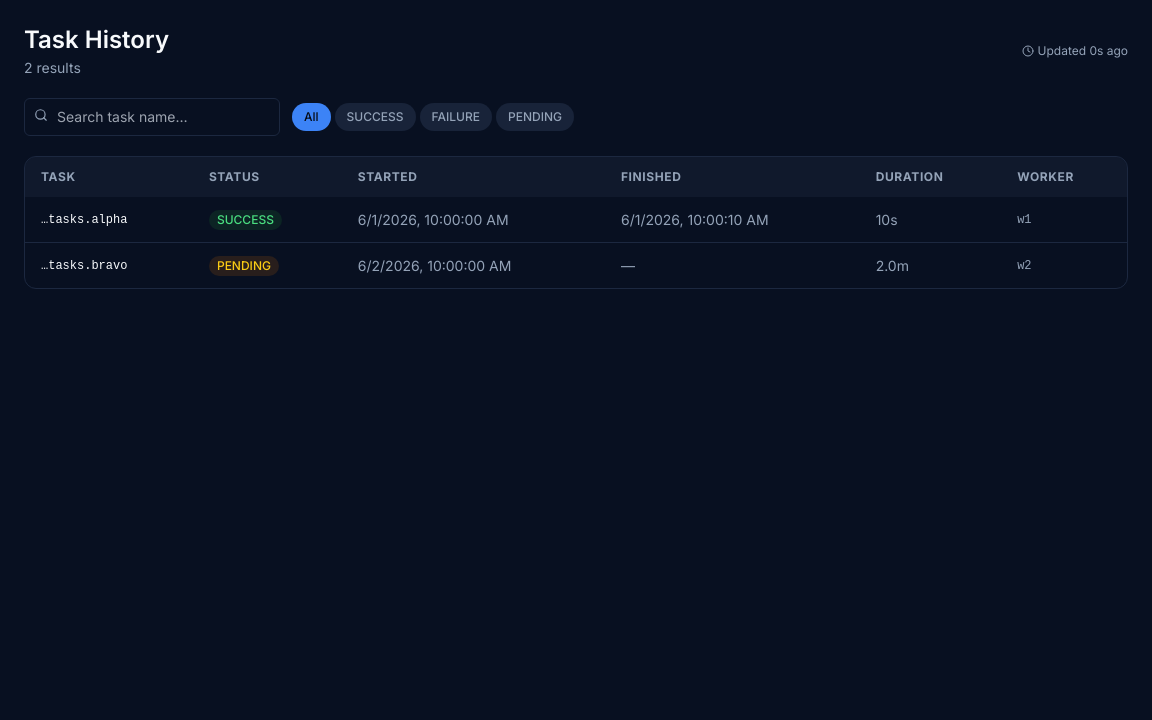
Test case: TaskHistory › opens the detail modal when a row is clicked
The width and height of the screenshot is (1152, 720).
Note: PENDING task opens the modal directly (no detail fetch).
Step 1. Click the text "…tasks.bravo" → (109,265), box [25, 242, 193, 288]
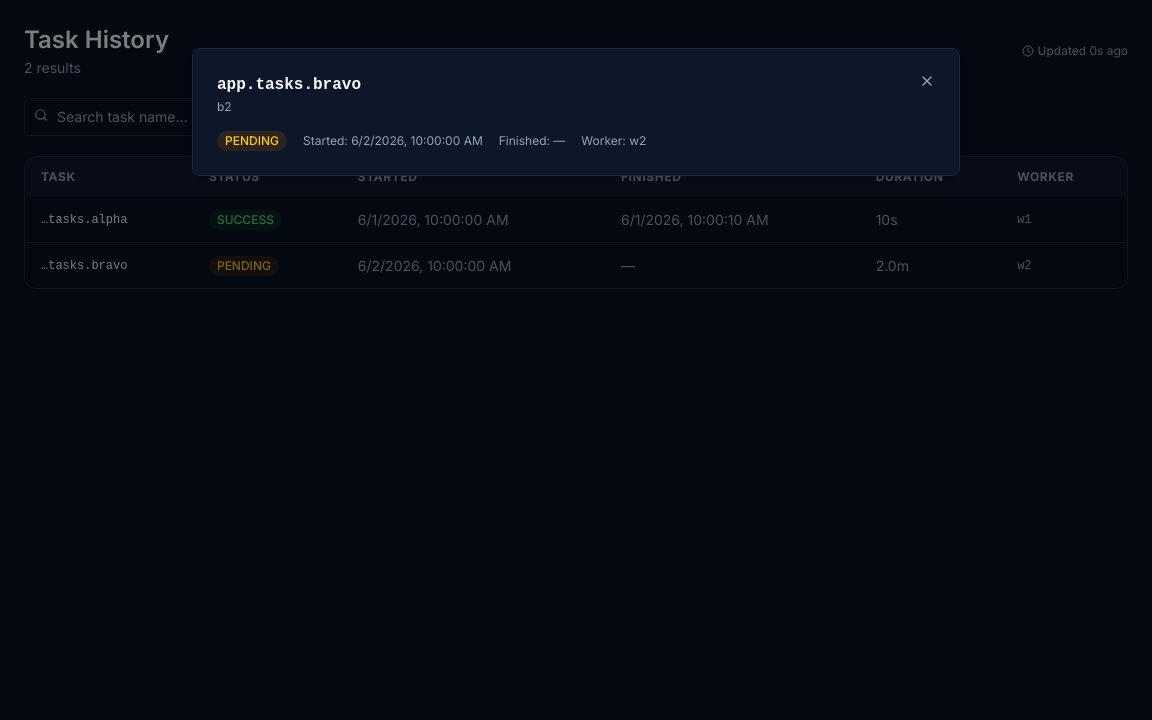
Now the heading "app.tasks.bravo" is shown, box [217, 73, 361, 97]
